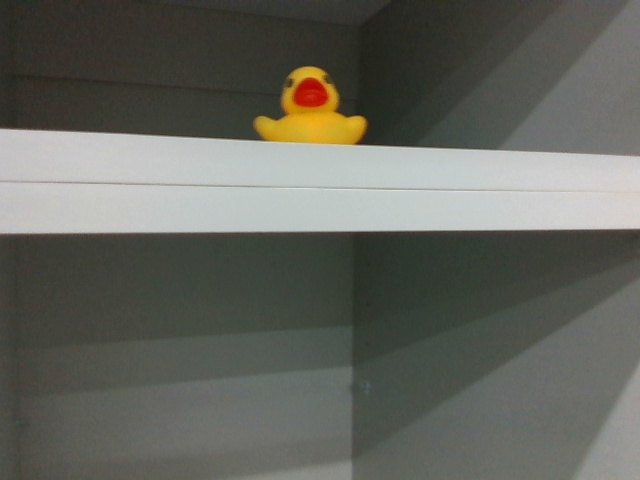duck: (252, 64, 366, 142)
